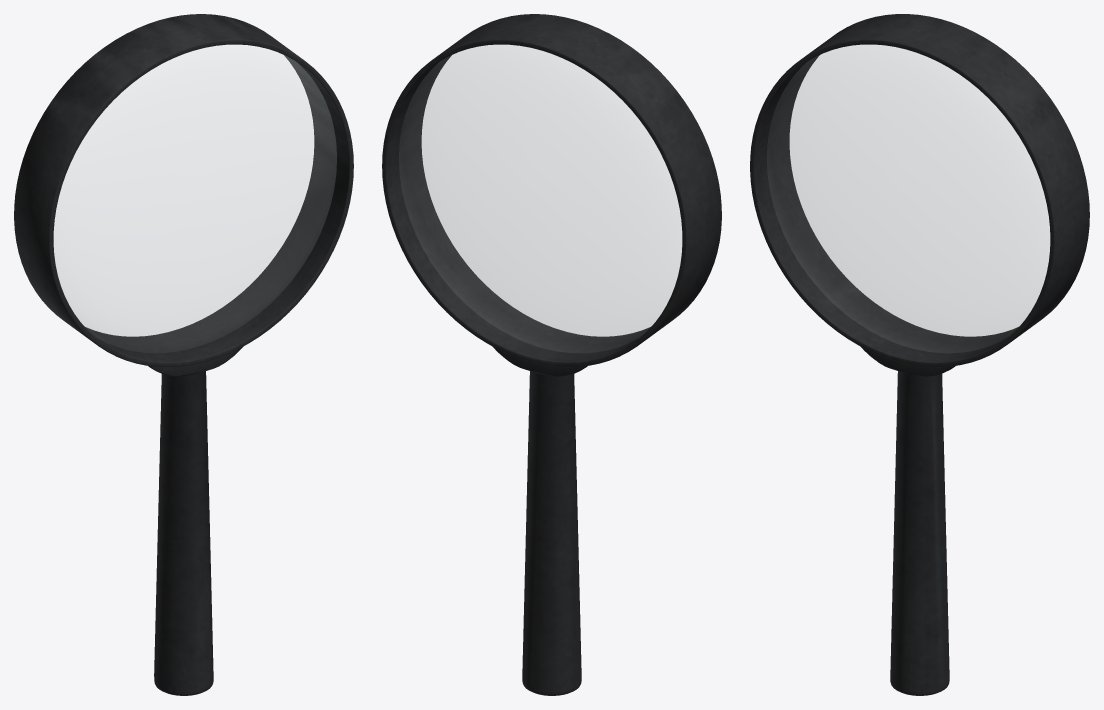
File: magnifying_glass_01.glb
3 renders of one model, left to right at view 1: azimuth 30°, elevation 25°; view 2: azimuth 150°, elevation 25°; view 3: azimuth 330°, elevation 25°, orthographic.
Parts seen in each view (by area): view 1: magnifying_glass_01; view 2: magnifying_glass_01; view 3: magnifying_glass_01.
Part boxes in pixels (bbox=[...]): magnifying_glass_01: bbox=[14, 14, 353, 695]; magnifying_glass_01: bbox=[382, 14, 721, 695]; magnifying_glass_01: bbox=[750, 14, 1089, 695].
Bounding box in the file's own units: 0.132 × 0.2715 × 0.0267.
2 materials, 1 textured.
